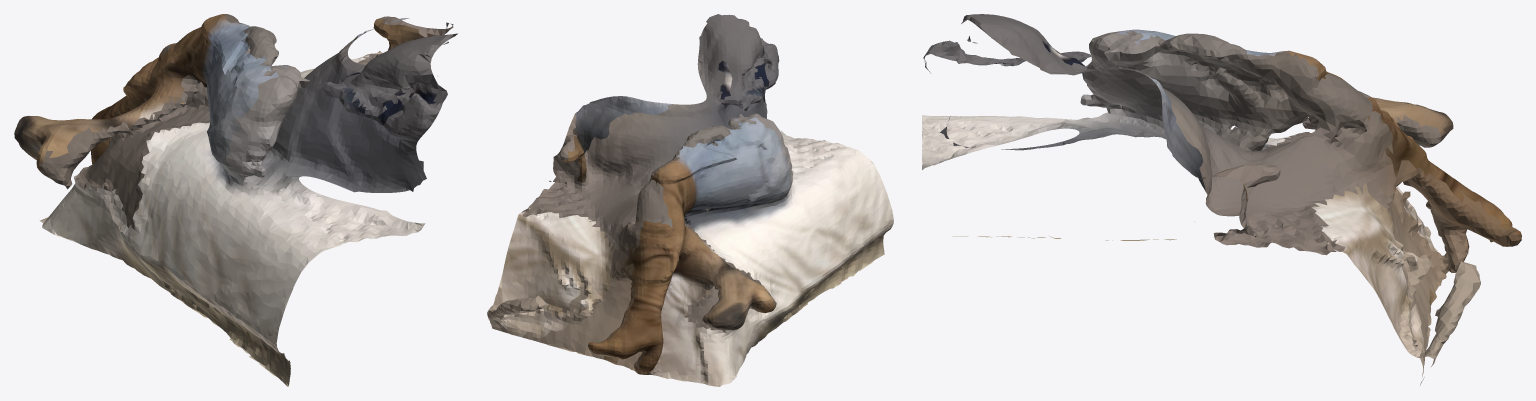
3 views of the same model, side by side, from view 1: azimuth 30°, elevation 25°; view 2: azimuth 150°, elevation 25°; view 3: azimuth 270°, elevation 25° (orthographic). The views are drawn at different scales.
Size of the model in its own units: 0.8248 by 0.6681 by 1.16.
Materials: 1 (1 with a texture image).
